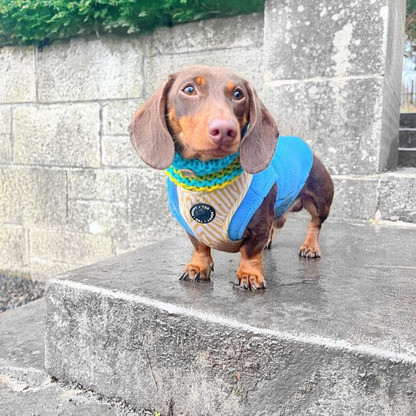dachshund: (131, 65, 350, 297)
